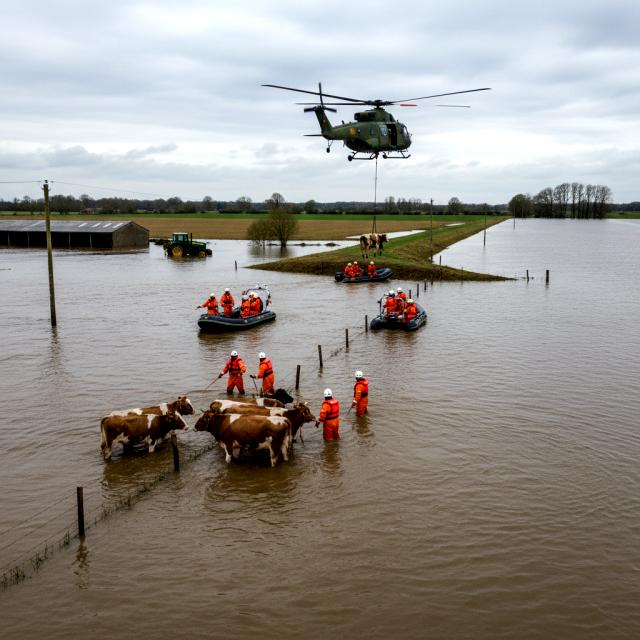cow: (192, 407, 299, 467), (92, 410, 187, 468), (210, 401, 319, 444), (106, 390, 195, 434), (357, 229, 394, 259), (232, 398, 287, 408), (270, 387, 295, 408)
rescuer: (216, 344, 252, 400), (314, 382, 344, 446), (251, 349, 276, 395), (351, 368, 371, 422), (217, 284, 238, 320), (198, 292, 222, 320), (402, 295, 422, 322), (382, 288, 397, 324), (244, 292, 262, 319), (237, 290, 250, 322), (365, 257, 378, 280), (350, 258, 363, 276), (396, 285, 406, 307), (343, 262, 355, 278)
